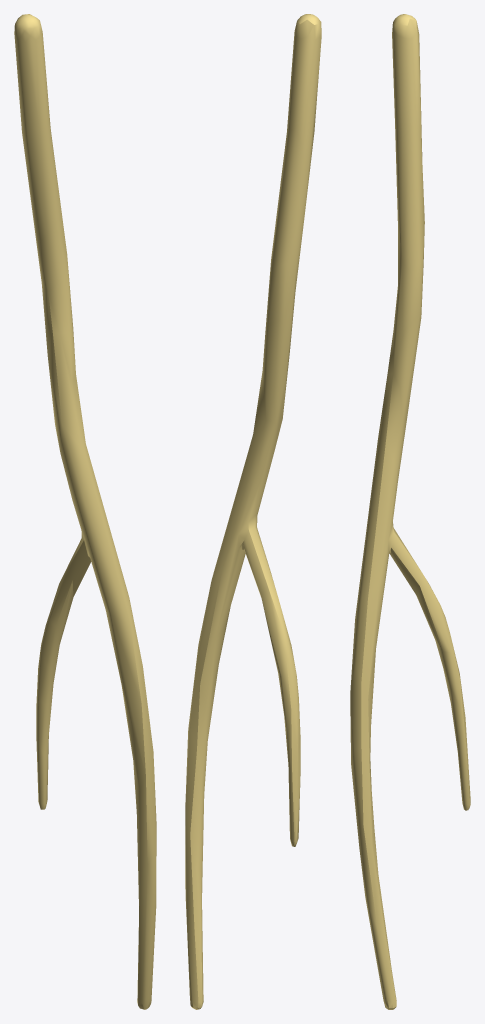
File: fma52592_fj4015.glb
The picture shows the model from 3 angles, left to right: view 1: azimuth 30°, elevation 25°; view 2: azimuth 210°, elevation 25°; view 3: azimuth 270°, elevation 25°; orthographic projection. The views are drawn at different scales.
Visible parts, largest first — view 1: FMA52592_FJ4015; view 2: FMA52592_FJ4015; view 3: FMA52592_FJ4015.
Part boxes in pixels (box(x1,y1,x2,y2)): FMA52592_FJ4015: box(14, 14, 156, 1009); FMA52592_FJ4015: box(185, 14, 321, 1009); FMA52592_FJ4015: box(350, 14, 470, 1009).
Size of the model in its own units: 0.00292 by 0.0224 by 0.00258.
